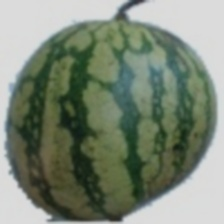watermelon: (61, 49, 204, 209)
